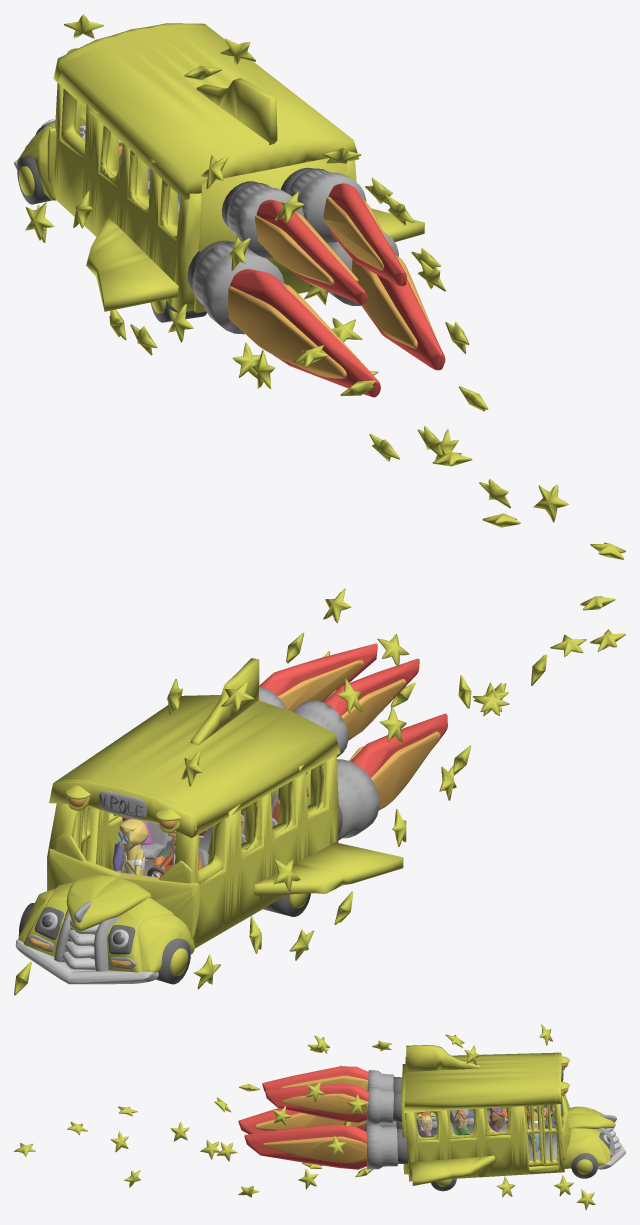
Rendered from magic_bus.glb.
3 views of the same model, one above another, from view 1: azimuth 30°, elevation 25°; view 2: azimuth 150°, elevation 25°; view 3: azimuth 270°, elevation 25° (orthographic). The views are drawn at different scales.
Visible parts, largest first — view 1: s.0007_Standard_ABAB17_0, s.0036_Standard_ABAB17_0, s.0062_Mirrored_Standard_ABAB17_0, s.0096_Standard_D9781B_0, s.0090_Standard_E61B17_0, p.0071_Standard_6A6A6A_0, s.0088_Mirrored_Standard_6A6A6A_0, s.0092_Standard_E61B17_0, s.0061_Standard_ABAB17_0, s.0089_Standard_E61B17_0, s.0091_Standard_E61B17_0, s.0094_Standard_D9781B_0 (+7 smaller); view 2: s.0007_Standard_ABAB17_0, s.0036_Standard_ABAB17_0, s.0062_Mirrored_Standard_ABAB17_0, s.0088_Mirrored_Standard_6A6A6A_0, s.0042_Standard_ABAB17_0, s.0096_Standard_D9781B_0, s.0089_Standard_E61B17_0, s.0044_Mirrored_Standard_ABAB17_0, s.0090_Standard_E61B17_0, s.0008_Mirrored_Standard_ABAB17_0, s.0061_Standard_ABAB17_0, s.0012_Mirrored_Standard_A6A915_0 (+15 smaller); view 3: s.0007_Standard_ABAB17_0, s.0042_Standard_ABAB17_0, s.0091_Standard_E61B17_0, s.0094_Standard_D9781B_0, s.0089_Standard_E61B17_0, s.0062_Standard_ABAB17_0, s.0061_Standard_ABAB17_0, s.0088_Standard_6A6A6A_0, s.0093_Standard_D9781B_0, s.0092_Standard_E61B17_0, s.0096_Standard_D9781B_0, s.0087_Standard_6A6A6A_0 (+14 smaller).
Part boxes in pixels (x1=…): s.0007_Standard_ABAB17_0: x1=53, y1=23, x2=359, y2=199; s.0036_Standard_ABAB17_0: x1=53, y1=75, x2=201, y2=311; s.0062_Mirrored_Standard_ABAB17_0: x1=86, y1=218, x2=178, y2=311; s.0096_Standard_D9781B_0: x1=228, y1=283, x2=371, y2=378; s.0090_Standard_E61B17_0: x1=230, y1=269, x2=380, y2=397; p.0071_Standard_6A6A6A_0: x1=193, y1=158, x2=347, y2=312; s.0088_Mirrored_Standard_6A6A6A_0: x1=192, y1=242, x2=284, y2=334; s.0092_Standard_E61B17_0: x1=256, y1=199, x2=367, y2=304; s.0061_Standard_ABAB17_0: x1=196, y1=78, x2=277, y2=144; s.0089_Standard_E61B17_0: x1=328, y1=183, x2=406, y2=286; s.0091_Standard_E61B17_0: x1=361, y1=246, x2=445, y2=370; s.0094_Standard_D9781B_0: x1=351, y1=255, x2=437, y2=348; s.0007_Standard_ABAB17_0: x1=49, y1=695, x2=340, y2=837; s.0036_Standard_ABAB17_0: x1=175, y1=755, x2=338, y2=948; s.0062_Mirrored_Standard_ABAB17_0: x1=254, y1=842, x2=403, y2=895; s.0088_Mirrored_Standard_6A6A6A_0: x1=337, y1=759, x2=379, y2=840; s.0042_Standard_ABAB17_0: x1=47, y1=803, x2=122, y2=890; s.0096_Standard_D9781B_0: x1=349, y1=731, x2=440, y2=810; s.0089_Standard_E61B17_0: x1=259, y1=643, x2=377, y2=701; s.0044_Mirrored_Standard_ABAB17_0: x1=115, y1=873, x2=199, y2=938; s.0090_Standard_E61B17_0: x1=351, y1=713, x2=447, y2=777; s.0008_Mirrored_Standard_ABAB17_0: x1=137, y1=915, x2=194, y2=972; s.0061_Standard_ABAB17_0: x1=190, y1=658, x2=259, y2=745; s.0012_Mirrored_Standard_A6A915_0: x1=77, y1=878, x2=151, y2=930; s.0007_Standard_ABAB17_0: x1=404, y1=1052, x2=562, y2=1112; s.0042_Standard_ABAB17_0: x1=405, y1=1104, x2=564, y2=1181; s.0091_Standard_E61B17_0: x1=244, y1=1124, x2=366, y2=1169; s.0094_Standard_D9781B_0: x1=263, y1=1136, x2=366, y2=1162; s.0089_Standard_E61B17_0: x1=265, y1=1083, x2=368, y2=1122; s.0062_Standard_ABAB17_0: x1=411, y1=1155, x2=495, y2=1185; s.0061_Standard_ABAB17_0: x1=406, y1=1045, x2=481, y2=1071; s.0088_Standard_6A6A6A_0: x1=365, y1=1124, x2=397, y2=1169; s.0093_Standard_D9781B_0: x1=282, y1=1093, x2=368, y2=1114; s.0092_Standard_E61B17_0: x1=262, y1=1066, x2=368, y2=1091; s.0096_Standard_D9781B_0: x1=255, y1=1112, x2=365, y2=1130; s.0087_Standard_6A6A6A_0: x1=366, y1=1086, x2=393, y2=1124.
Size of the model in its own units: 0.4754 by 0.4008 by 1.44.
